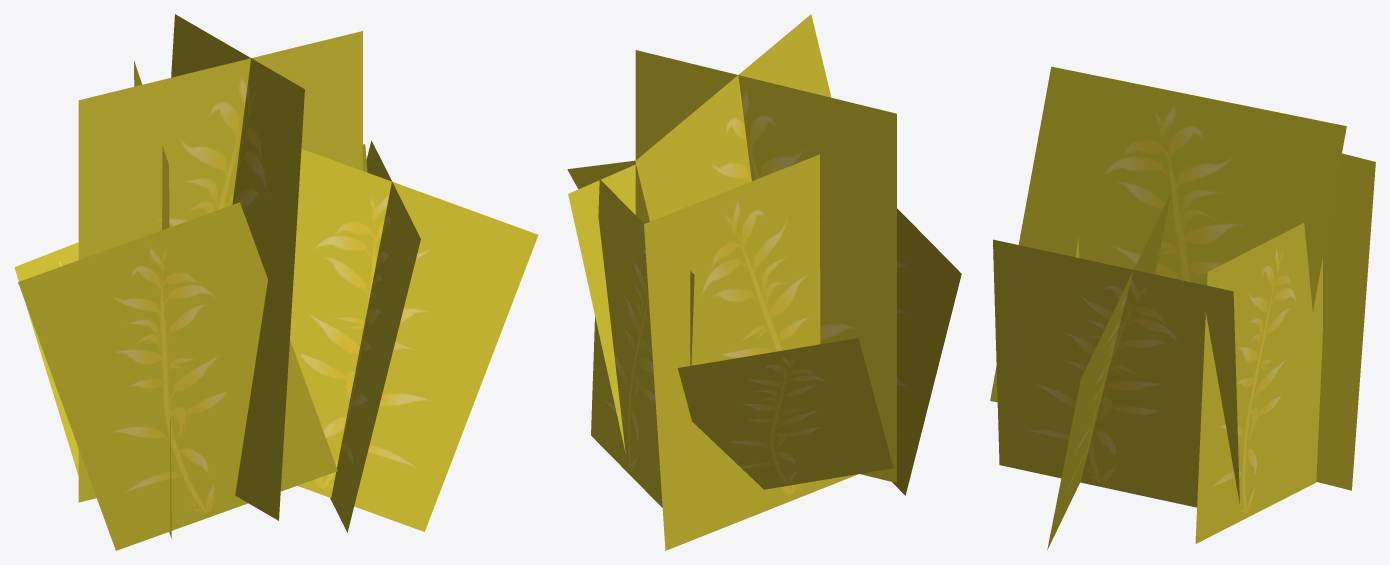
Rendered from Grass02.fbx.
3 renders of one model, left to right at view 1: azimuth 30°, elevation 25°; view 2: azimuth 150°, elevation 25°; view 3: azimuth 270°, elevation 25°, orthographic. The views are drawn at different scales.
Parts seen in each view (by area): view 1: Grass02_LOD0; view 2: Grass02_LOD0; view 3: Grass02_LOD0.
Part boxes in pixels (x1,y1,x2,y2): Grass02_LOD0: [14, 14, 538, 550]; Grass02_LOD0: [567, 14, 961, 550]; Grass02_LOD0: [990, 66, 1375, 549].
Size of what is drawn, in the model's own units: 247 by 234 by 189.
